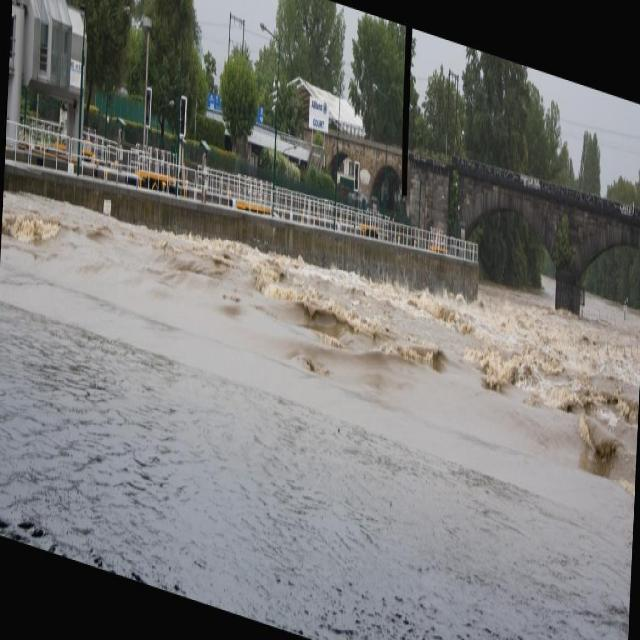flood: (0, 133, 640, 639)
